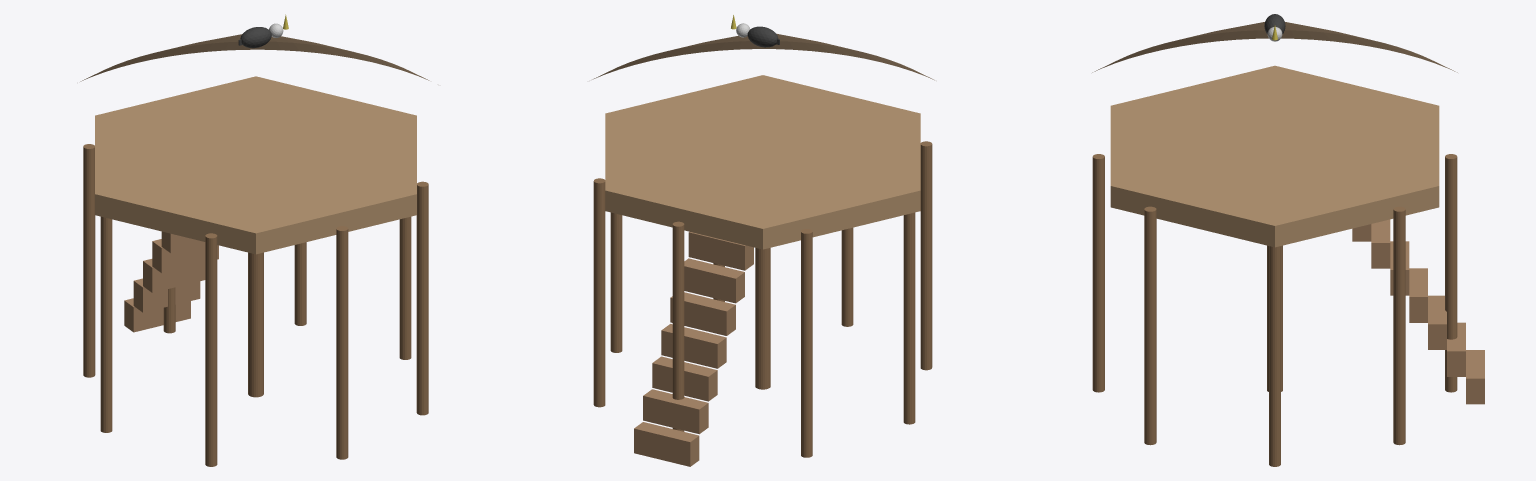
Rendered from rumah_jagoi.glb.
3 views of the same model, side by side, from view 1: azimuth 30°, elevation 25°; view 2: azimuth 150°, elevation 25°; view 3: azimuth 270°, elevation 25° (orthographic). The views are drawn at different scales.
Visible parts, largest first — view 1: platform, pillar_5, pillar_6, pillar_7, pillar_3, pillar_4, roof, center_pole, pillar_0, step_2, step_1, step_0 (+5 smaller); view 2: platform, pillar_1, pillar_5, pillar_3, pillar_4, roof, pillar_2, center_pole, step_0, step_1, step_5, step_4 (+6 smaller); view 3: platform, pillar_1, pillar_6, pillar_7, roof, pillar_0, pillar_2, step_0, step_3, step_2, step_5, step_1 (+1 smaller).
Boxes of the visible parts, bbox=[...] form: platform: bbox=[95, 76, 416, 254]; pillar_5: bbox=[205, 233, 217, 466]; pillar_6: bbox=[336, 226, 348, 459]; pillar_7: bbox=[416, 181, 428, 415]; pillar_3: bbox=[83, 144, 95, 377]; pillar_4: bbox=[100, 216, 112, 432]; roof: bbox=[80, 34, 429, 81]; center_pole: bbox=[248, 252, 263, 397]; pillar_0: bbox=[399, 216, 411, 359]; step_2: bbox=[143, 259, 205, 292]; step_1: bbox=[133, 278, 200, 312]; step_0: bbox=[124, 298, 190, 332]; platform: bbox=[605, 75, 920, 249]; pillar_1: bbox=[593, 178, 605, 407]; pillar_5: bbox=[920, 141, 932, 370]; pillar_3: bbox=[801, 229, 812, 457]; pillar_4: bbox=[903, 212, 915, 424]; roof: bbox=[592, 33, 934, 80]; pillar_2: bbox=[672, 221, 684, 431]; center_pole: bbox=[755, 248, 770, 389]; step_0: bbox=[634, 422, 699, 466]; step_1: bbox=[643, 389, 708, 434]; step_5: bbox=[684, 258, 744, 303]; step_4: bbox=[670, 292, 735, 335]; platform: bbox=[1110, 65, 1439, 247]; pillar_1: bbox=[1393, 206, 1405, 445]; pillar_6: bbox=[1092, 154, 1104, 392]; pillar_7: bbox=[1144, 206, 1156, 445]; roof: bbox=[1092, 22, 1457, 72]; pillar_0: bbox=[1269, 246, 1280, 466]; pillar_2: bbox=[1445, 154, 1457, 392]; step_0: bbox=[1466, 350, 1484, 404]; step_3: bbox=[1409, 268, 1427, 322]; step_2: bbox=[1428, 295, 1446, 349]; step_5: bbox=[1371, 219, 1390, 268]; step_1: bbox=[1447, 322, 1465, 376].
Size of the model in its own units: 7.28 by 6.2 by 7.28.
